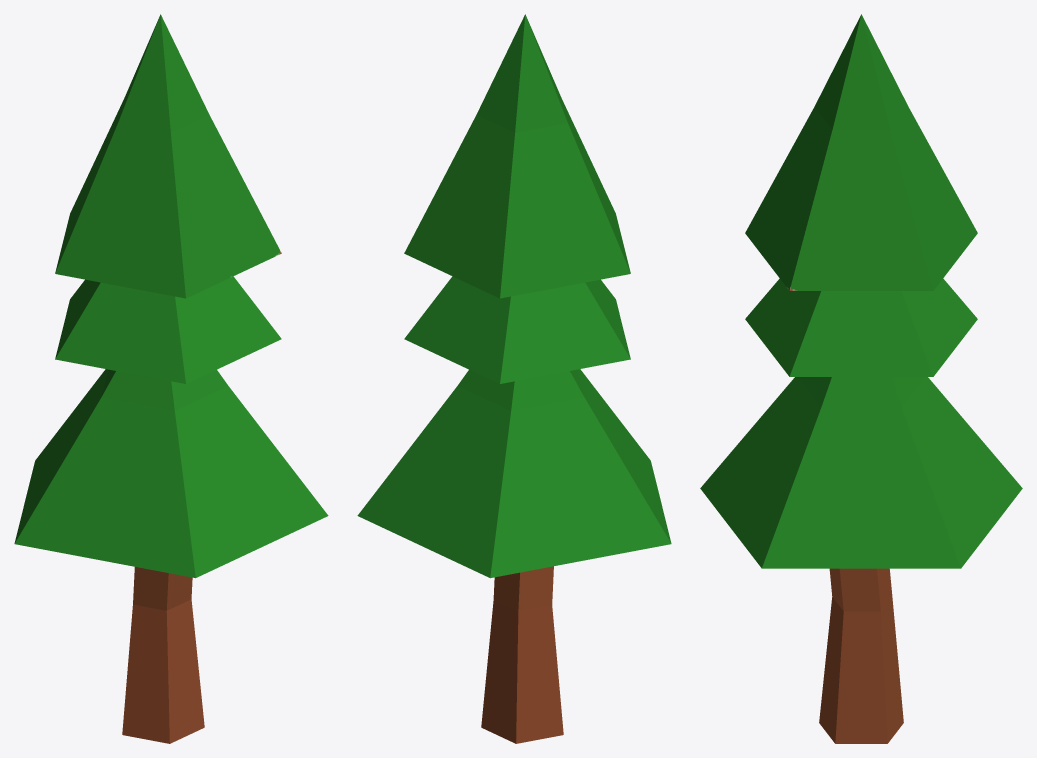
File: tree.obj
3 renders of one model, left to right at view 1: azimuth 30°, elevation 25°; view 2: azimuth 150°, elevation 25°; view 3: azimuth 270°, elevation 25°, orthographic.
Parts seen in each view (by area): view 1: 円柱.002; view 2: 円柱.002; view 3: 円柱.002.
Part boxes in pixels (box(x1,y1,x2,y2)): 円柱.002: box(14, 14, 328, 743); 円柱.002: box(357, 14, 671, 743); 円柱.002: box(700, 14, 1022, 743).
Bounding box in the file's own units: 3.53 × 9.07 × 3.71.
Materials: 1 (1 with a texture image).
